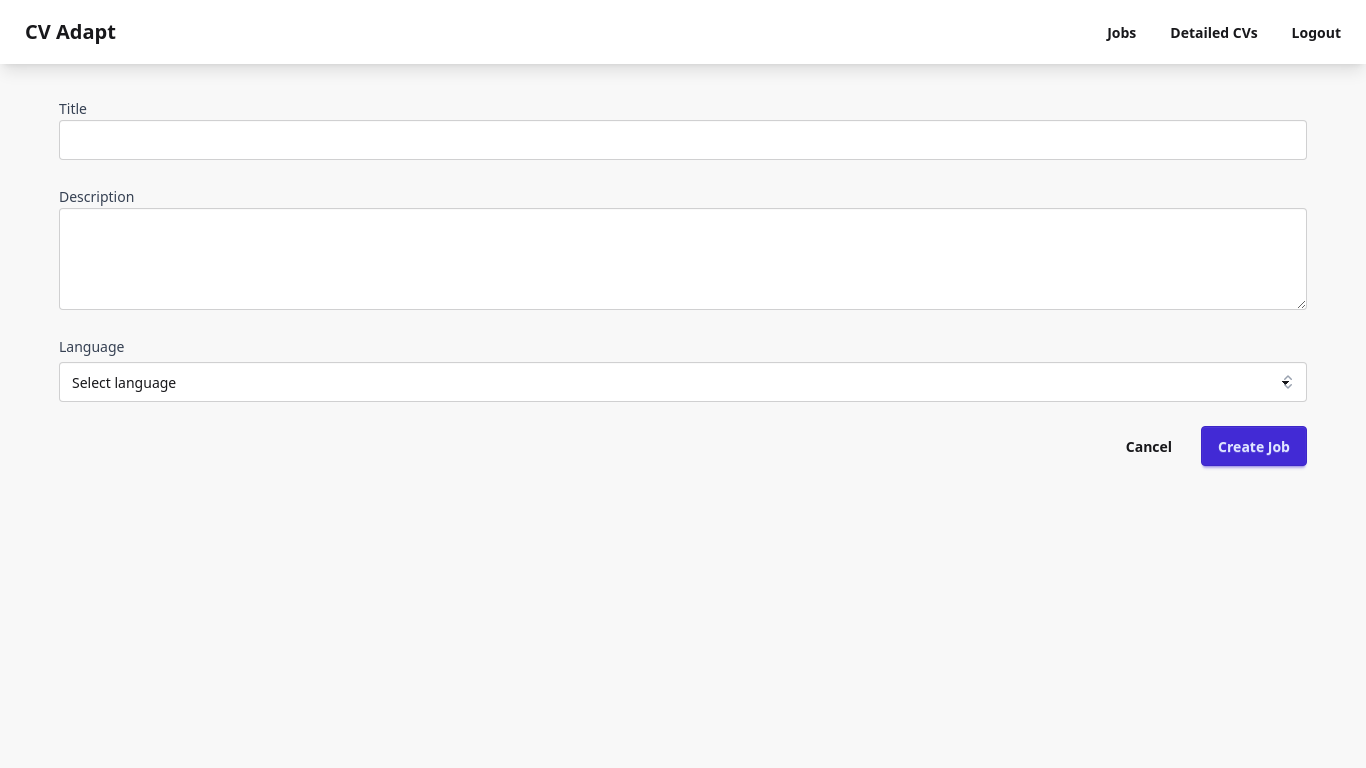
Job Form Operations › should create new job and navigate to list
The width and height of the screenshot is (1366, 768).
Expected: the form is shown, [59,96,1307,466]
# Fill in form
In the field labelled "Title": (683,140) [59,120,1307,160], type "Backend Developer"
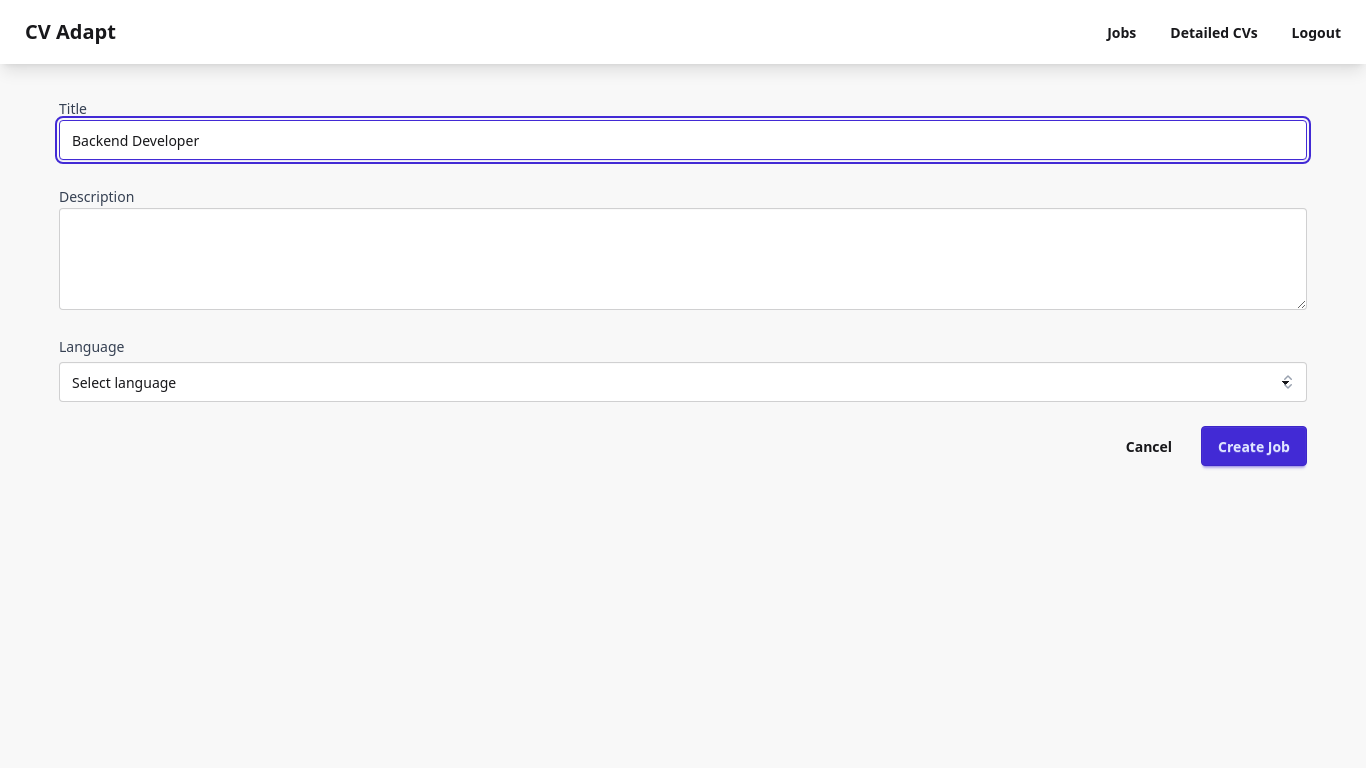
In the text box labelled "Description": (683,259) [59,208,1307,310], type "Building APIs"
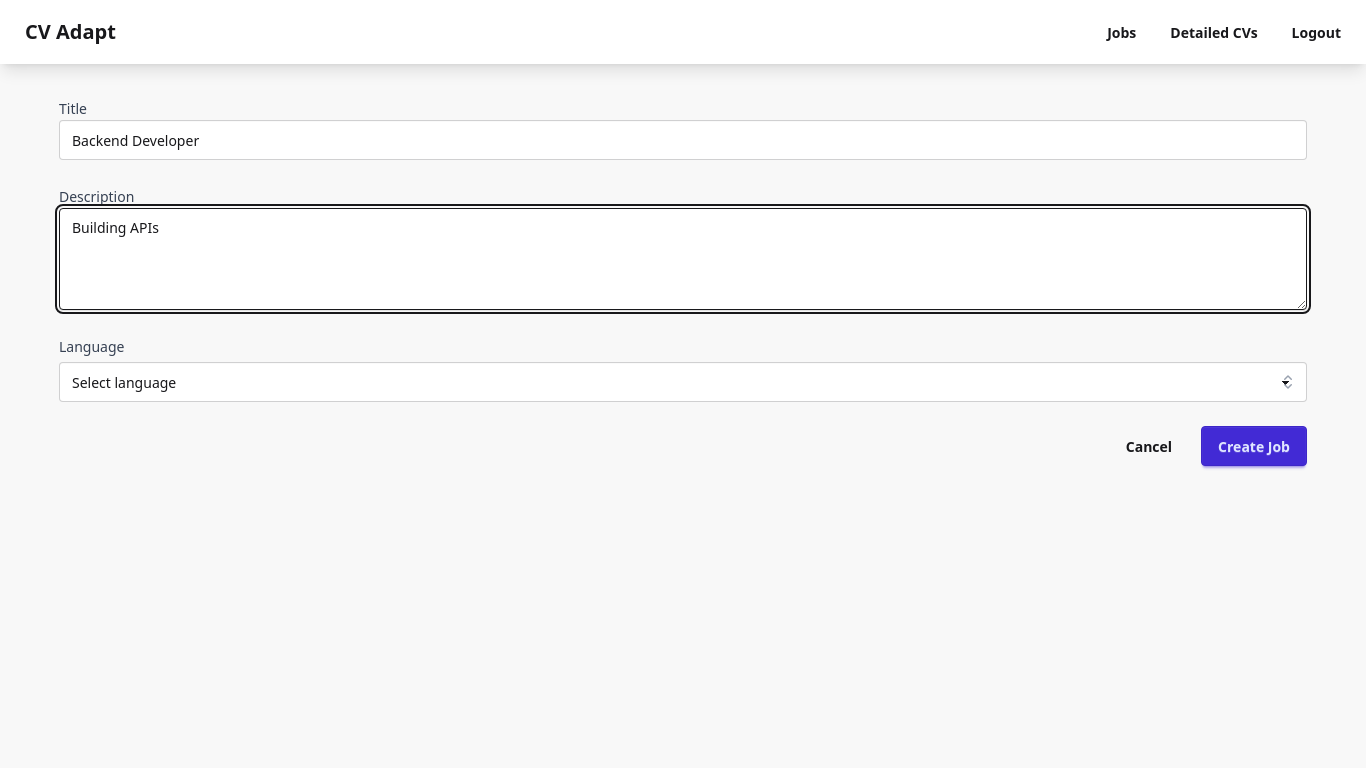
# Select language
Click the button "Select language": (124,382) [59,362,1307,402]
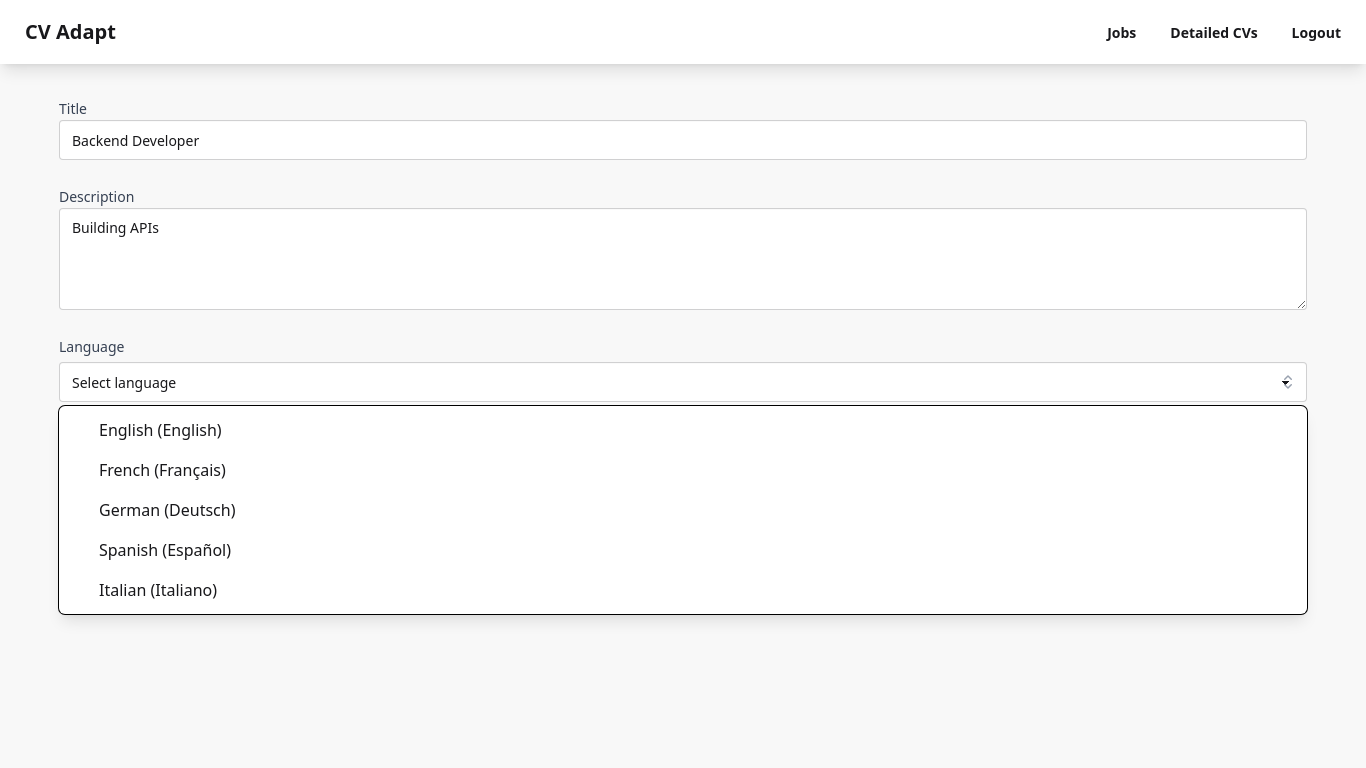
Click the option "English (English)": (160,430) [99,419,222,441]
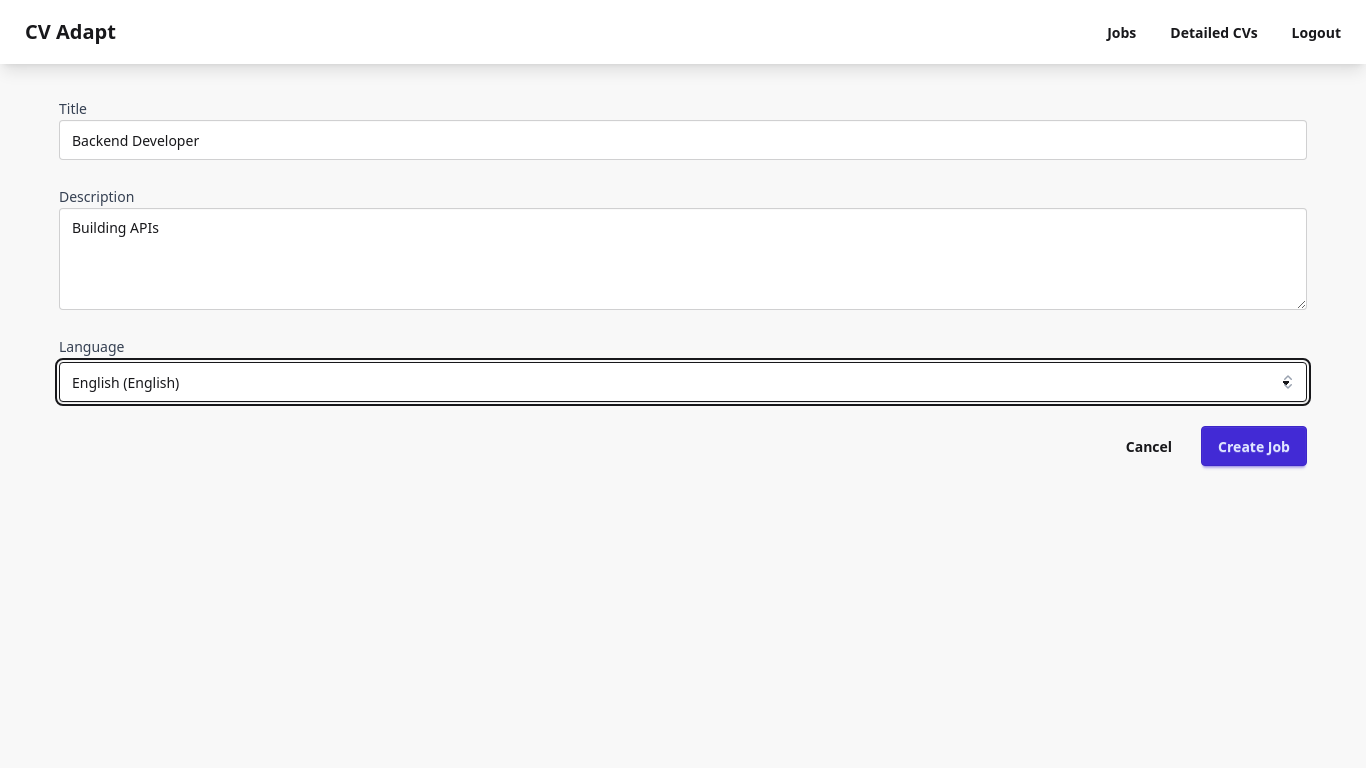
# Submit form and verify auth isn't lost during submission
Click the button "Create Job": (1254,446) [1201,426,1307,466]
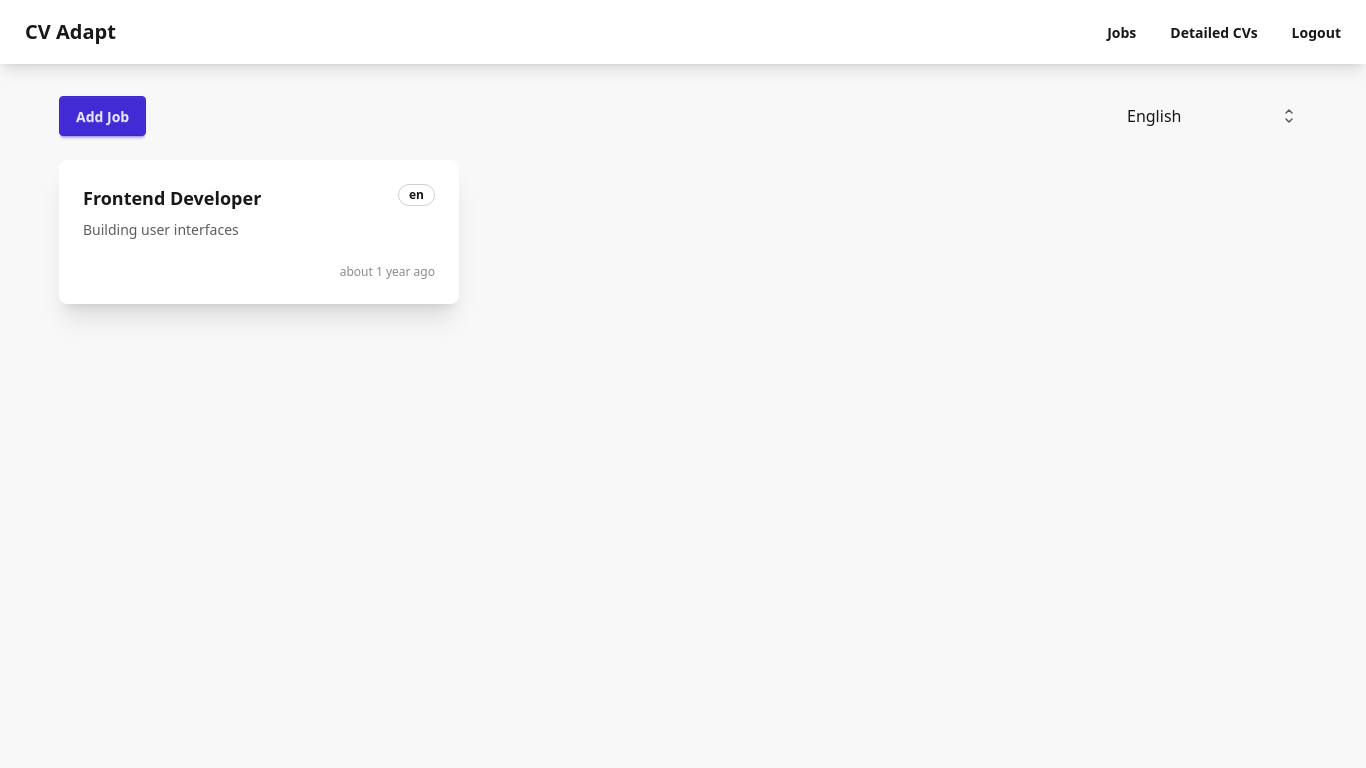
Expected: the link "Add Job" is shown, [59,96,146,136]
